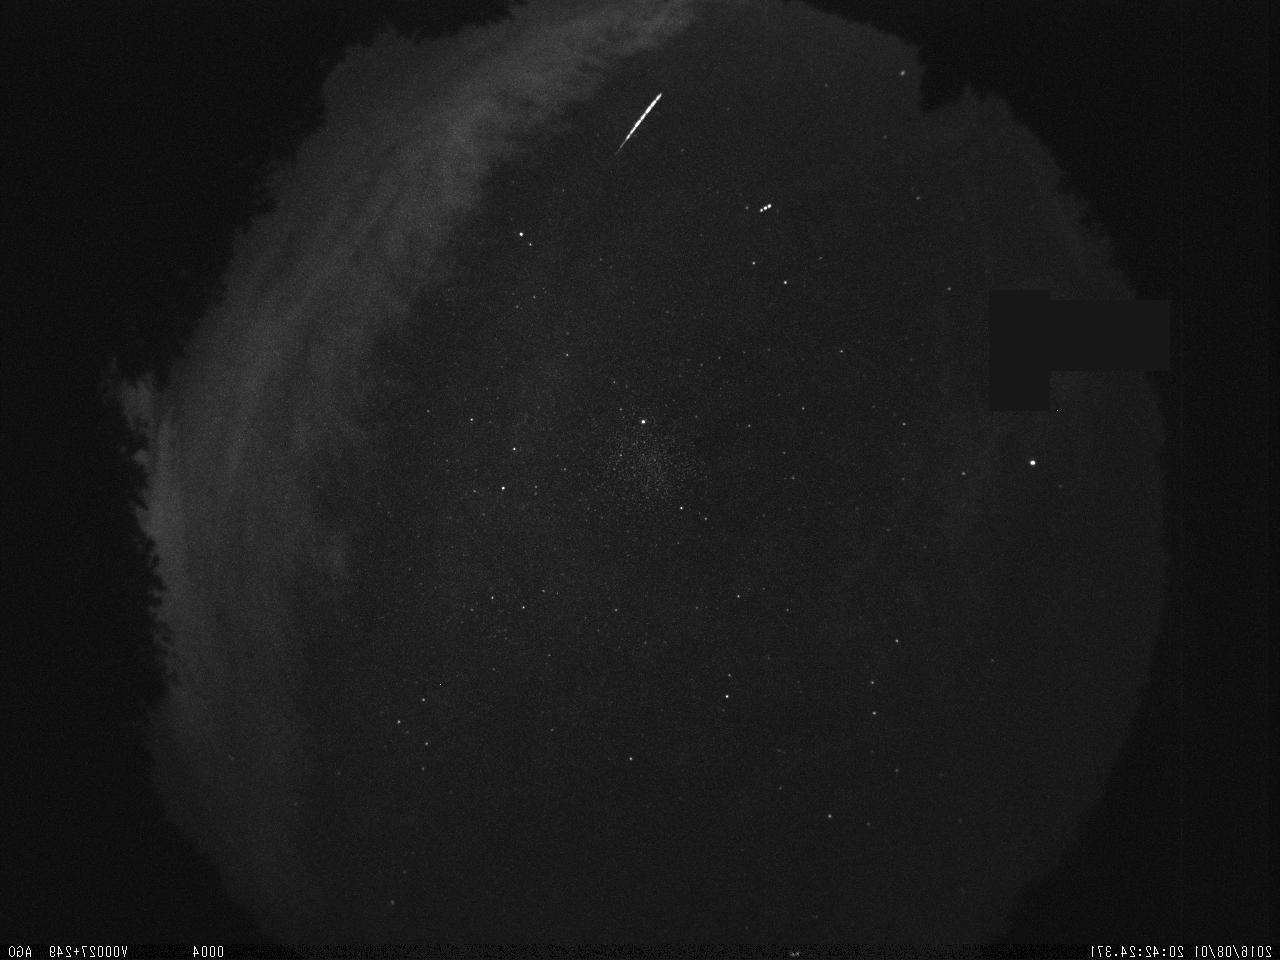meteor: (606, 85, 677, 164)
